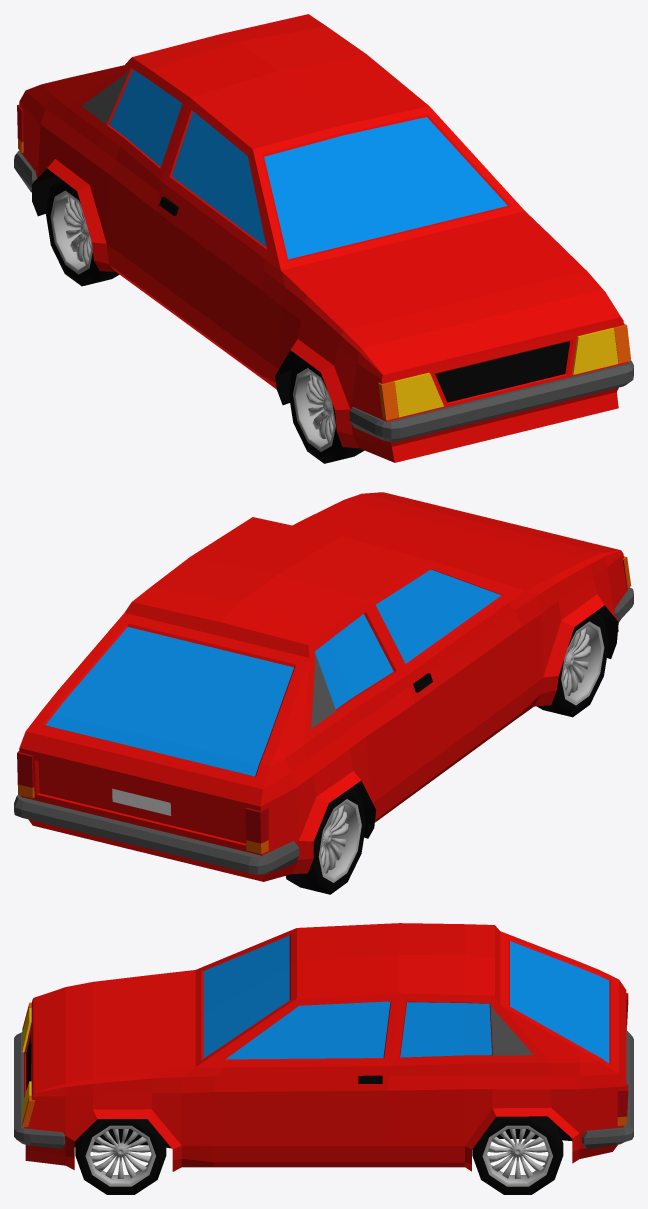
Rendered from hatchback.fbx.
3 views of the same model, one above another, from view 1: azimuth 30°, elevation 25°; view 2: azimuth 150°, elevation 25°; view 3: azimuth 270°, elevation 25° (orthographic). The views are drawn at different scales.
Parts seen in each view (by area): view 1: Cube, Wheel3rr, Wheel3fr; view 2: Cube, Wheel3fr, Wheel3rr; view 3: Cube, Wheel3fl, Wheel3rl.
Part boxes in pixels (box(x1,y1,x2,y2)): Cube: box(14, 14, 633, 462); Wheel3rr: box(288, 359, 364, 463); Wheel3fr: box(45, 180, 119, 286); Cube: box(14, 492, 633, 881); Wheel3fr: box(286, 788, 366, 894); Wheel3rr: box(537, 612, 609, 717); Cube: box(14, 923, 633, 1171); Wheel3fl: box(472, 1116, 563, 1194); Wheel3rl: box(75, 1119, 166, 1194).
Bounding box in the file's own units: 128 × 99.27 × 296.
